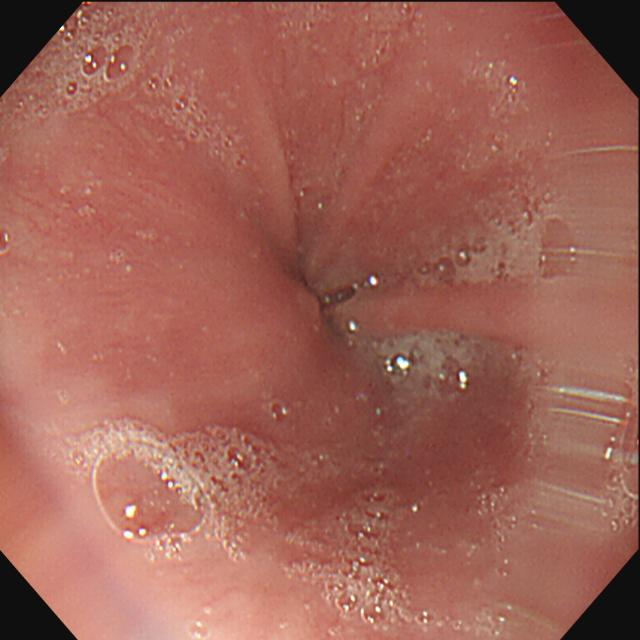I: (191, 132, 443, 443)
T: (25, 2, 249, 172), (61, 421, 332, 561), (280, 466, 409, 634), (410, 187, 582, 294), (595, 355, 640, 545), (373, 328, 491, 398), (471, 465, 516, 639), (263, 2, 426, 45)
